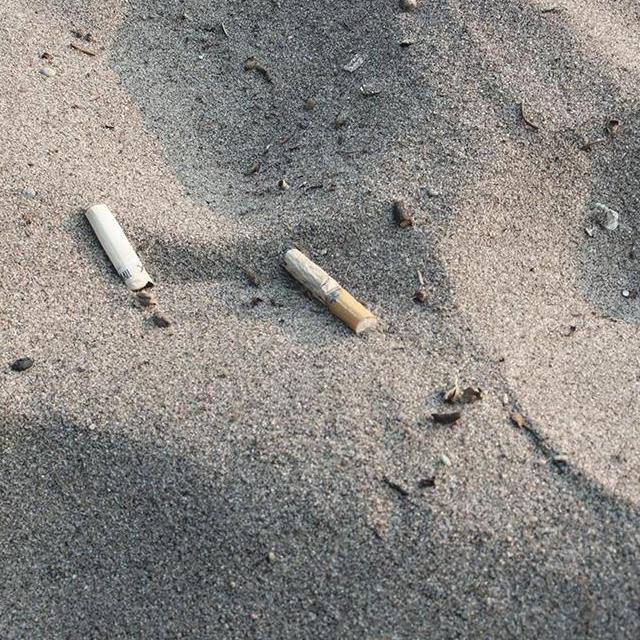Cigarette Butt: (275, 237, 391, 341), (81, 194, 167, 298)
